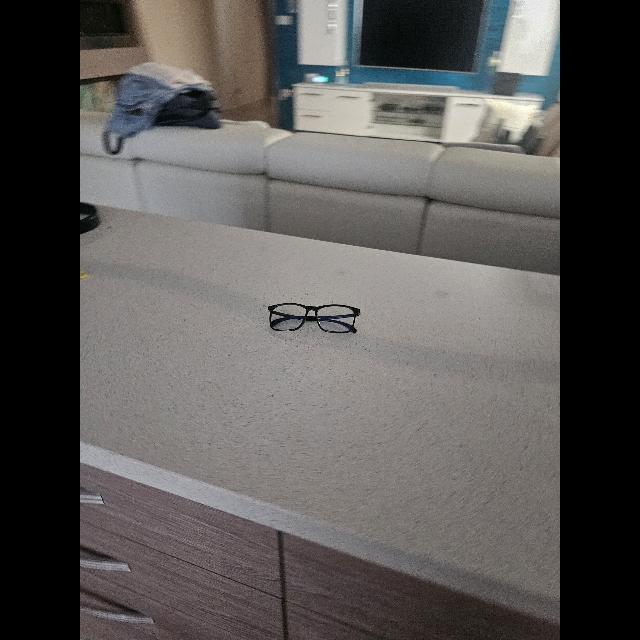glasses: (268, 304, 360, 332)
